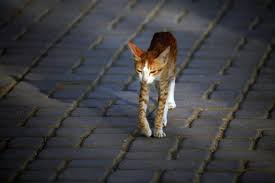cat: (121, 29, 191, 143)
